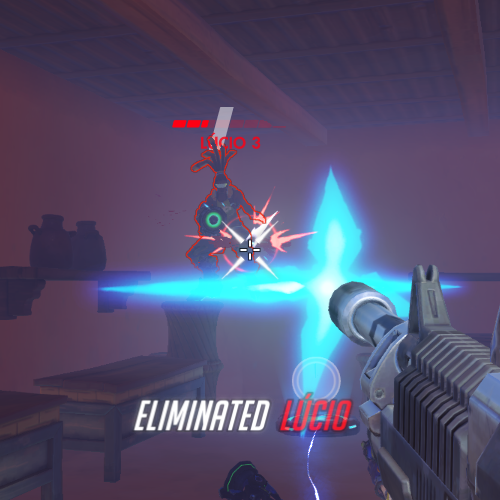hpbar: (171, 119, 286, 128)
